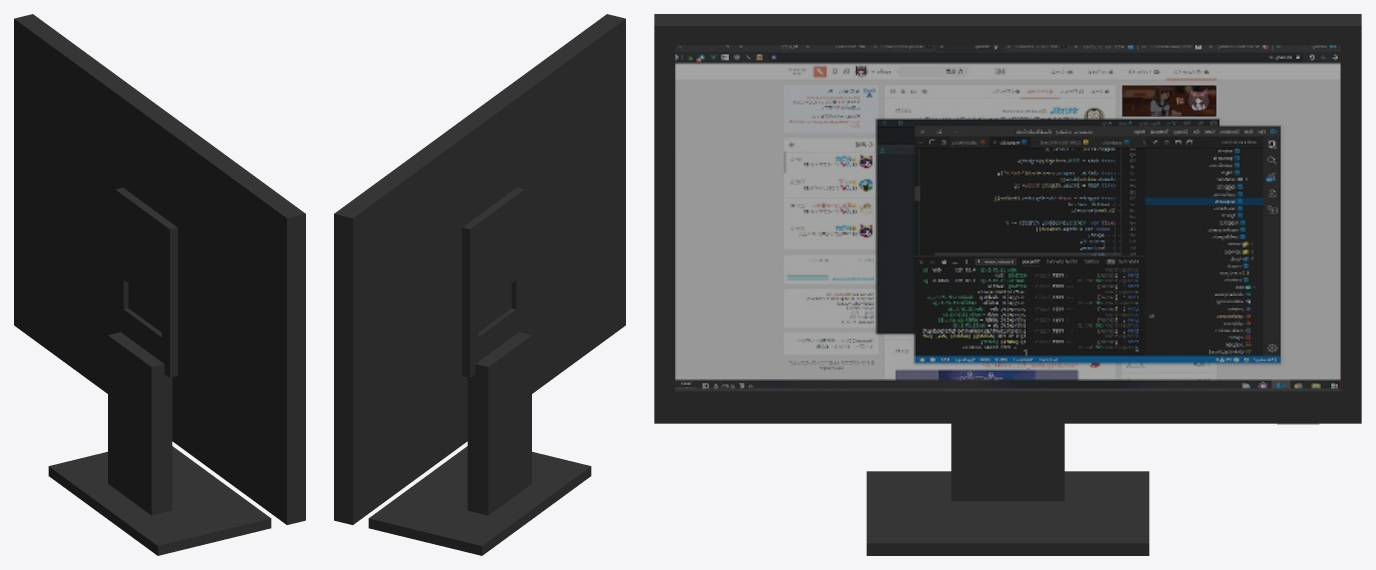
Rendered from monitor.glb.
The picture shows the model from 3 angles, left to right: view 1: azimuth 30°, elevation 25°; view 2: azimuth 150°, elevation 25°; view 3: azimuth 270°, elevation 25°; orthographic projection. The views are drawn at different scales.
Visible parts, largest first — view 1: Body.001, Body, Cube; view 2: Body.001, Body, Cube; view 3: Screen, Body.001, Body.
Part boxes in pixels (x1,y1,x2,y2): Body.001: [14, 14, 305, 524]; Body: [48, 332, 271, 555]; Cube: [115, 187, 177, 377]; Body.001: [334, 14, 625, 524]; Body: [368, 332, 591, 555]; Cube: [462, 187, 524, 377]; Screen: [675, 45, 1340, 388]; Body.001: [654, 14, 1361, 423]; Body: [866, 423, 1149, 555].
Bounding box in the file's own units: 0.12 × 0.39 × 0.5.
Materials: 3 (1 with a texture image).
